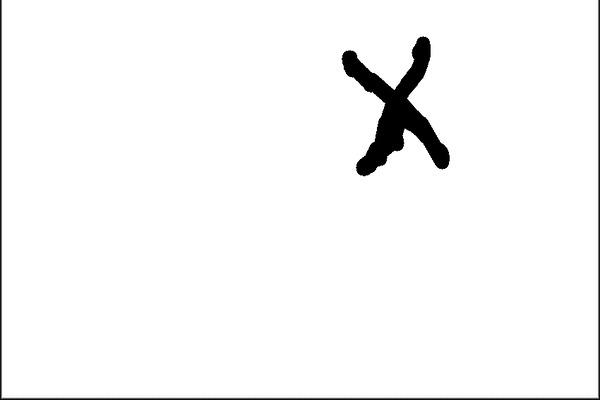X: (326, 33, 475, 192)
